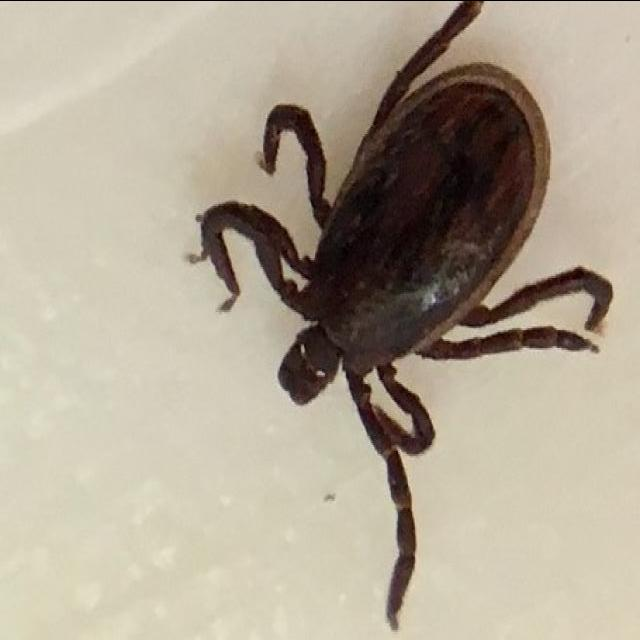Ixodes Ricinus-M: (186, 0, 616, 631)
